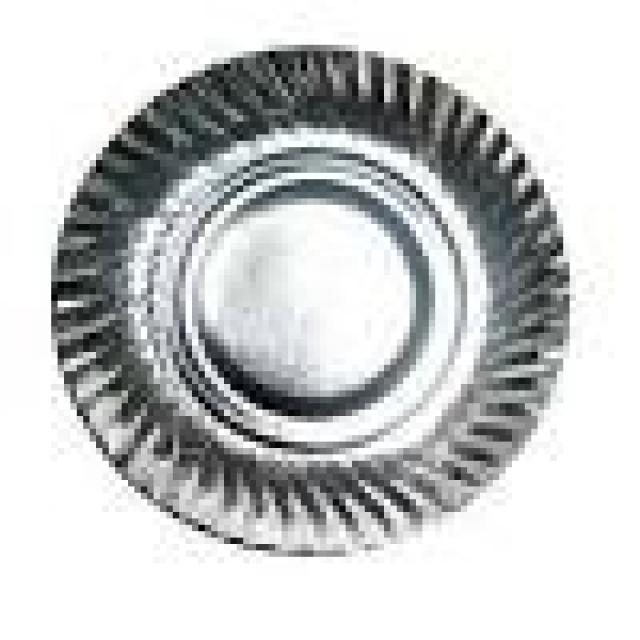Paper -Biodegradable-: (50, 54, 570, 555)
